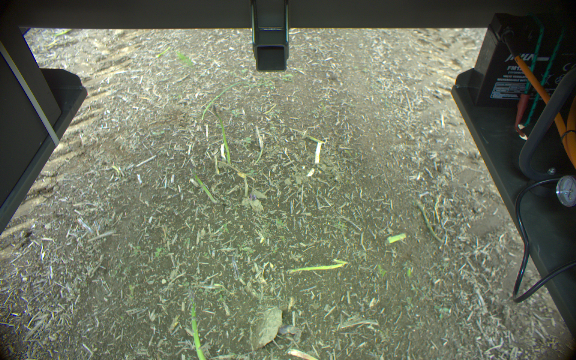aspa: (183, 289, 206, 360), (187, 169, 218, 206), (216, 112, 232, 166)
